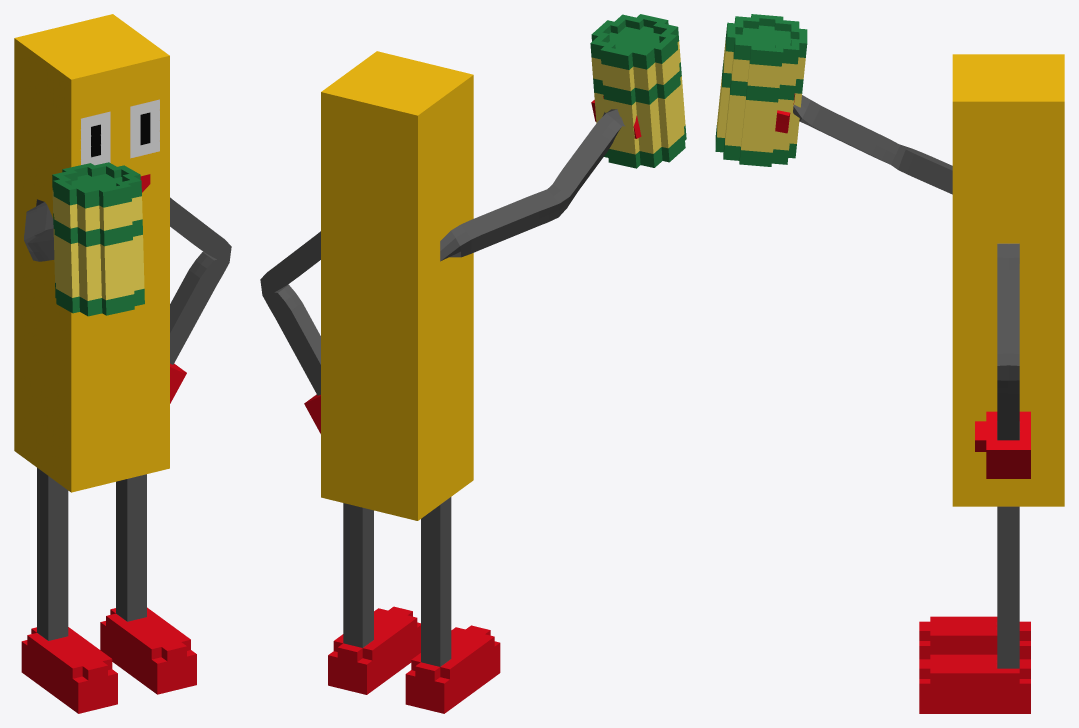
The model's file is potatokun_juice.fbx.
3 views of the same model, side by side, from view 1: azimuth 30°, elevation 25°; view 2: azimuth 150°, elevation 25°; view 3: azimuth 270°, elevation 25° (orthographic).
Visible parts, largest first — view 1: PLY PK 60cm, Untitled; view 2: PLY PK 60cm, Untitled; view 3: PLY PK 60cm, Untitled.
Part boxes in pixels (x1,y1,x2,y2): PLY PK 60cm: [14, 14, 231, 713]; Untitled: [52, 162, 144, 316]; PLY PK 60cm: [260, 51, 641, 713]; Untitled: [590, 14, 686, 168]; PLY PK 60cm: [775, 54, 1064, 713]; Untitled: [715, 14, 807, 166].
Bounding box in the file's own units: 29.4 × 59.96 × 31.21.
Materials: 2 (2 with a texture image).
